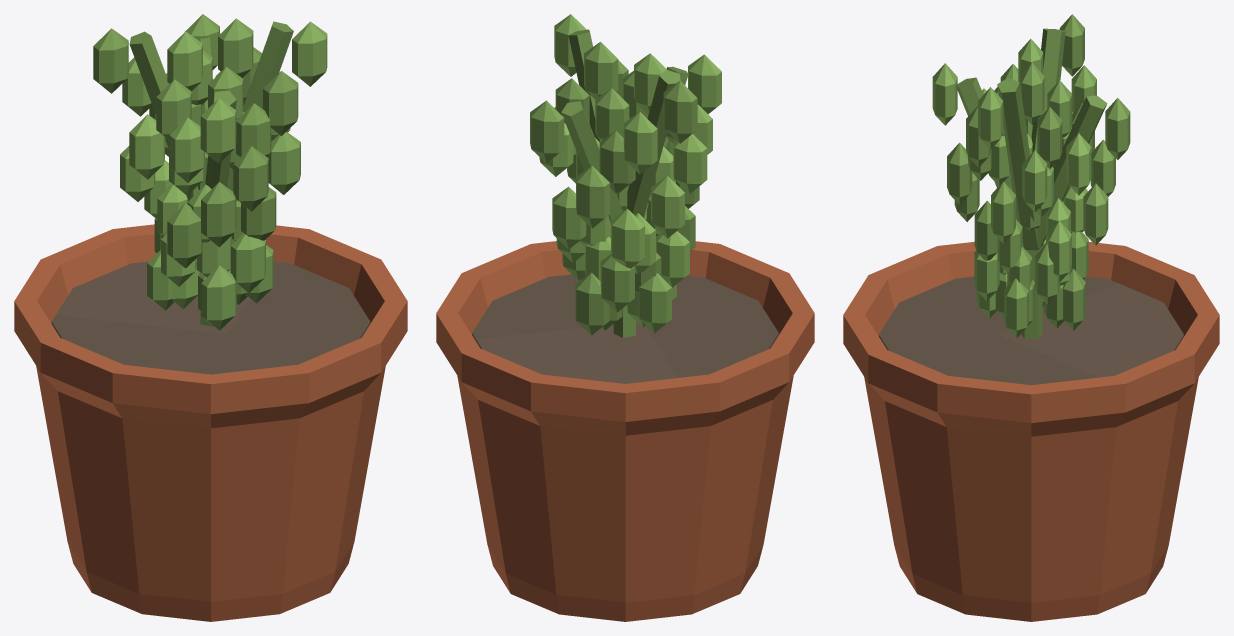
File: sedum.glb
3 renders of one model, left to right at view 1: azimuth 30°, elevation 25°; view 2: azimuth 150°, elevation 25°; view 3: azimuth 270°, elevation 25°, orthographic. The views are drawn at different scales.
Parts seen in each view (by area): view 1: sedum/review-terra-vessel, sedum/review-rooted-soil, sedum/stem-046, sedum/ovoid-leaf-045, sedum/ovoid-leaf-030, sedum/ovoid-leaf-060, sedum/ovoid-leaf-038, sedum/ovoid-leaf-040, sedum/ovoid-leaf-033, sedum/ovoid-leaf-058, sedum/ovoid-leaf-025, sedum/ovoid-leaf-043 (+22 smaller); view 2: sedum/review-terra-vessel, sedum/review-rooted-soil, sedum/stem-016, sedum/stem-001, sedum/ovoid-leaf-015, sedum/ovoid-leaf-030, sedum/ovoid-leaf-028, sedum/ovoid-leaf-010, sedum/ovoid-leaf-023, sedum/ovoid-leaf-021, sedum/ovoid-leaf-025, sedum/ovoid-leaf-059 (+18 smaller); view 3: sedum/review-terra-vessel, sedum/review-rooted-soil, sedum/stem-046, sedum/stem-001, sedum/stem-016, sedum/ovoid-leaf-008, sedum/ovoid-leaf-013, sedum/ovoid-leaf-060, sedum/ovoid-leaf-015, sedum/ovoid-leaf-055, sedum/ovoid-leaf-045, sedum/ovoid-leaf-057 (+23 smaller).
Boxes of the visible parts, box(x1,y1,x2,y2) form: sedum/review-terra-vessel: box(14, 224, 407, 621); sedum/review-rooted-soil: box(51, 261, 370, 374); sedum/stem-046: box(200, 21, 293, 326); sedum/ovoid-leaf-045: box(200, 98, 236, 163); sedum/ovoid-leaf-030: box(93, 28, 128, 93); sedum/ovoid-leaf-060: box(292, 21, 327, 86); sedum/ovoid-leaf-038: box(201, 182, 236, 247); sedum/ovoid-leaf-040: box(233, 146, 268, 211); sedum/ovoid-leaf-033: box(201, 265, 236, 330); sedum/ovoid-leaf-058: box(263, 71, 298, 136); sedum/ovoid-leaf-025: box(129, 114, 164, 179); sedum/ovoid-leaf-043: box(169, 117, 204, 182); sedum/review-terra-vessel: box(436, 241, 814, 621); sedum/review-rooted-soil: box(472, 274, 778, 383); sedum/stem-016: box(613, 69, 680, 337); sedum/stem-001: box(561, 101, 635, 337); sedum/ovoid-leaf-015: box(530, 100, 564, 163); sedum/ovoid-leaf-030: box(663, 81, 697, 143); sedum/ovoid-leaf-028: box(623, 112, 657, 174); sedum/ovoid-leaf-010: box(576, 165, 609, 228); sedum/ovoid-leaf-023: box(651, 175, 684, 238); sedum/ovoid-leaf-021: box(611, 208, 644, 268); sedum/ovoid-leaf-025: box(673, 134, 707, 193); sedum/ovoid-leaf-059: box(584, 42, 618, 99); sedum/review-terra-vessel: box(843, 241, 1219, 621); sedum/review-rooted-soil: box(879, 276, 1183, 385); sedum/stem-046: box(997, 77, 1038, 250); sedum/stem-001: box(1036, 95, 1107, 250); sedum/stem-016: box(1021, 28, 1065, 338); sedum/ovoid-leaf-008: box(1083, 183, 1108, 245); sedum/ovoid-leaf-013: box(1066, 133, 1091, 195); sedum/ovoid-leaf-060: box(978, 87, 1003, 149); sedum/ovoid-leaf-015: box(1105, 98, 1130, 159); sedum/ovoid-leaf-055: box(1022, 150, 1047, 212); sedum/ovoid-leaf-045: box(932, 63, 957, 125); sedum/ovoid-leaf-057: box(1037, 107, 1062, 168).
Size of the model in its own units: 0.19 by 0.2873 by 0.19.
Materials: 3 (3 with a texture image).
